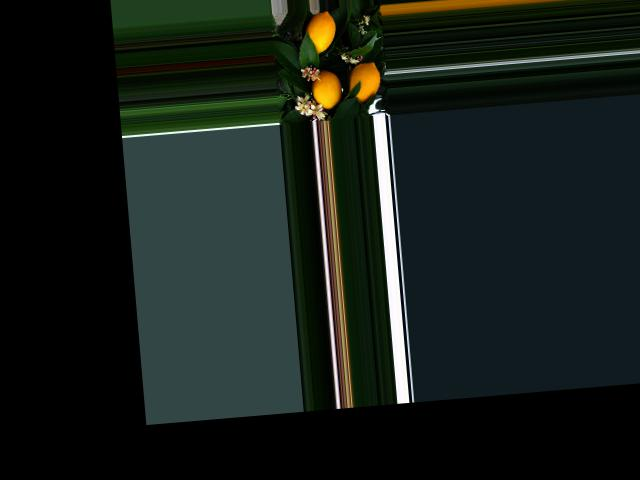lemon: (297, 11, 340, 59)
